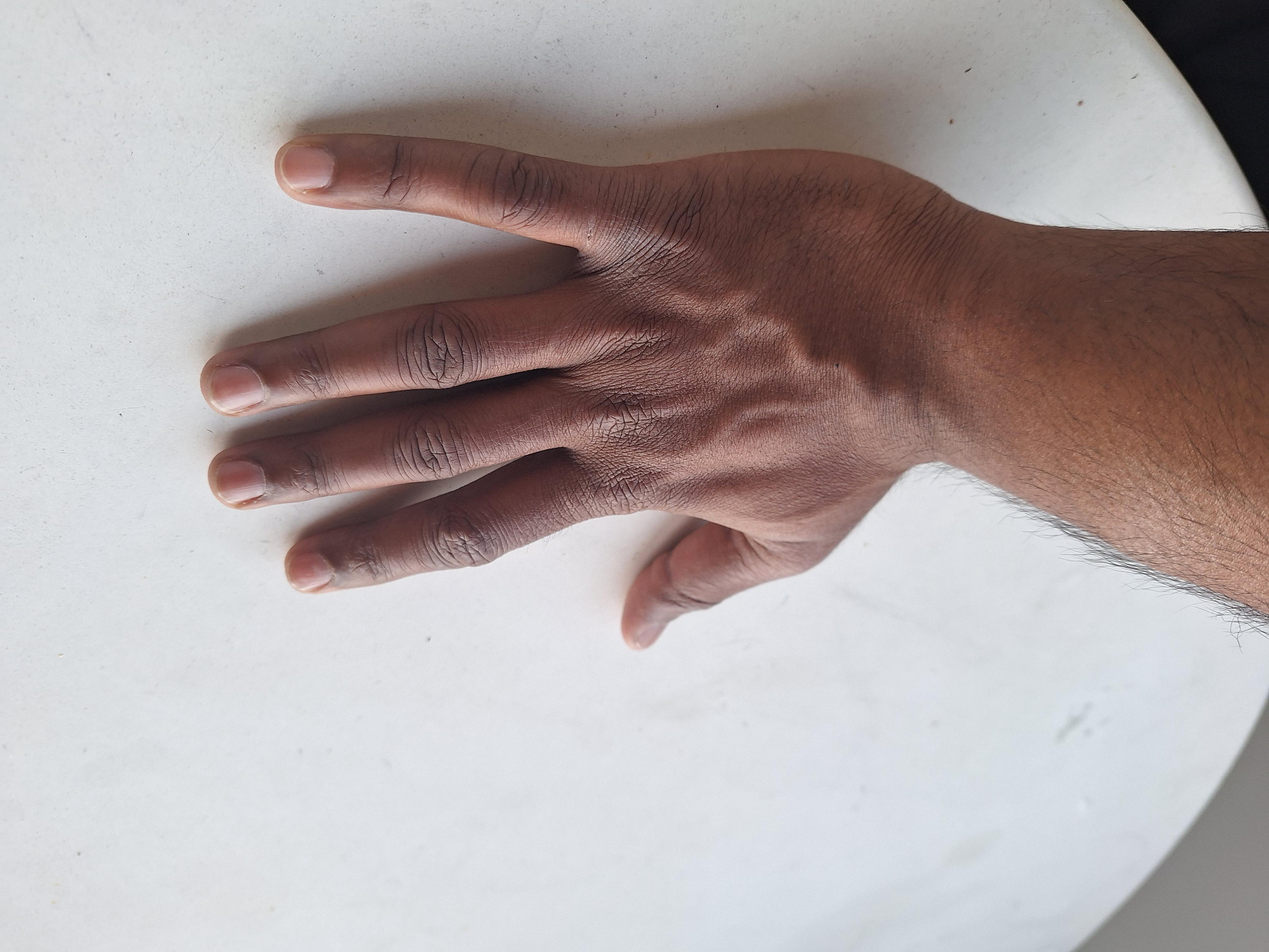Fingernail: (208, 367, 264, 415), (280, 146, 333, 193), (215, 460, 266, 505), (287, 553, 333, 592), (637, 625, 665, 650)
